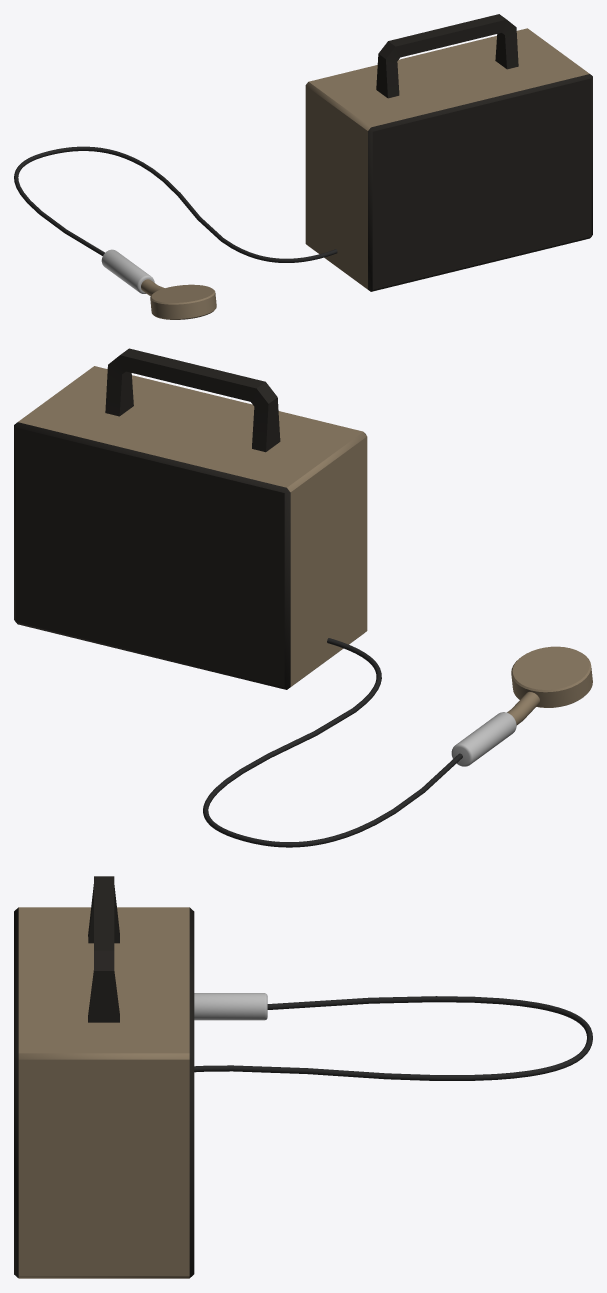
The model's file is geiger_counter_table.fbx.
3 renders of one model, top to bottom at view 1: azimuth 30°, elevation 25°; view 2: azimuth 150°, elevation 25°; view 3: azimuth 270°, elevation 25°, orthographic. The views are drawn at different scales.
Parts seen in each view (by area): view 1: geiger_counter_box, Cube_1, cord, Cylinder, geiger_counter_wand; view 2: geiger_counter_box, Cube_1, Cylinder, cord, geiger_counter_wand; view 3: geiger_counter_box, cord, Cube_1, geiger_counter_wand.
Part boxes in pixels (x1,y1,x2,y2): geiger_counter_box: [305, 28, 592, 291]; Cube_1: [376, 14, 518, 98]; cord: [14, 146, 337, 262]; Cylinder: [150, 284, 216, 319]; geiger_counter_wand: [101, 249, 154, 293]; geiger_counter_box: [14, 366, 367, 689]; Cube_1: [105, 348, 280, 452]; Cylinder: [511, 646, 592, 707]; cord: [203, 638, 462, 847]; geiger_counter_wand: [451, 712, 516, 766]; geiger_counter_box: [14, 907, 194, 1278]; cord: [194, 996, 592, 1080]; Cube_1: [88, 876, 119, 1022]; geiger_counter_wand: [194, 993, 267, 1020].
Size of the model in its own units: 63.6 by 30.76 by 55.39.
